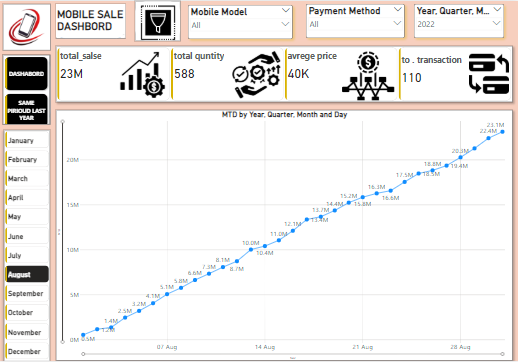

This screenshot's page, from the dashboard's own definition file:
{"tool":"powerbi","page":{"name":"MTD REPORT ","canvas":[2600,1800],"ordinal":1},"visuals":[{"type":"image","box":[19.8,15.6,238.1,232.4],"z":0},{"type":"shape","box":[20.6,267.6,238.2,347.1],"z":1000},{"type":"cardVisual","fields":{"Data":["mobile salse data.total_salse","mobile salse data.total quntity","mobile salse data.avrege price","mobile salse data.total transaction"]},"box":[286.7,226.7,2283.3,280],"z":2000},{"type":"slicer","fields":{"Values":["mobile salse data.Mobile Model"]},"box":[943.3,20,523.3,170],"z":3000},{"type":"slicer","fields":{"Values":["mobile salse data.Payment Method"]},"box":[1536.7,16.7,493.3,170],"z":4000},{"type":"slicer","fields":{"Values":["custom calender.date.Variation.Date Hierarchy.Year","custom calender.date.Variation.Date Hierarchy.Quarter","custom calender.date.Variation.Date Hierarchy.Month","custom calender.date.Variation.Date Hierarchy.Day"]},"box":[2076.7,16.7,450,170],"z":5000},{"type":"shape","box":[680,0,226.7,200],"z":6000},{"type":"image","box":[686.7,13.3,220,186.7],"z":7000},{"type":"shape","box":[286.7,13.3,346.7,173.3],"z":8000},{"type":"textbox","title":"MOBILE SALE                            DASHBORD","box":[286.7,16.7,346.7,166.7],"z":9000},{"type":"lineChart","fields":{"Category":["custom calender.date.Variation.Date Hierarchy.Year","custom calender.date.Variation.Date Hierarchy.Quarter","custom calender.date.Variation.Date Hierarchy.Month","custom calender.date.Variation.Date Hierarchy.Day"],"Y":["mobile salse data.MTD"]},"box":[286.7,546.7,2283.3,1253.3],"z":10000},{"type":"advancedSlicerVisual","title":" MONNTH","fields":{"Values":["custom calender.date.Variation.Date Hierarchy.Month"]},"box":[26.7,643.3,230,1156.7],"z":11000},{"type":"pageNavigator","box":[20,268,233.3,346.7],"z":12000}]}

Visuals, with their boxes in screenshot pixels (x1, y1, x2, y2), scaled from the page's 2600x1800 canvas onto the 518x362 screenshot:
image: 4,3,51,50
shape: 4,54,52,124
cardVisual - mobile salse data.total_salse x mobile salse data.total quntity: 57,46,512,102
slicer - mobile salse data.Mobile Model: 188,4,292,38
slicer - mobile salse data.Payment Method: 306,3,404,38
slicer - custom calender.date.Variation.Date Hierarchy.Year x custom calender.date.Variation.Date Hierarchy.Quarter: 414,3,503,38
shape: 135,0,181,40
image: 137,3,181,40
shape: 57,3,126,38
"MOBILE SALE                            DASHBORD" textbox: 57,3,126,37
lineChart - custom calender.date.Variation.Date Hierarchy.Year x custom calender.date.Variation.Date Hierarchy.Quarter: 57,110,512,361
" MONNTH" advancedSlicerVisual: 5,129,51,361
pageNavigator: 4,54,50,124
